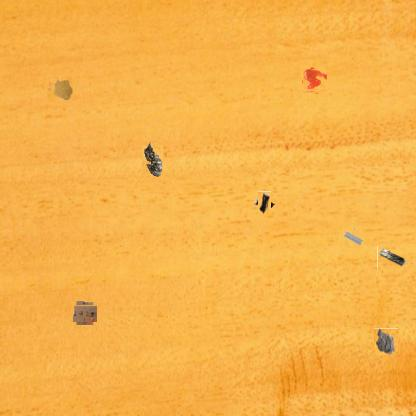dirty: (141, 140, 163, 178), (377, 246, 408, 270), (374, 328, 398, 355), (75, 302, 95, 324), (342, 229, 362, 249), (255, 194, 274, 212)
liquid: (46, 76, 72, 103), (302, 68, 326, 92)
